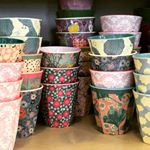cups: (86, 82, 136, 137), (40, 78, 84, 130)
